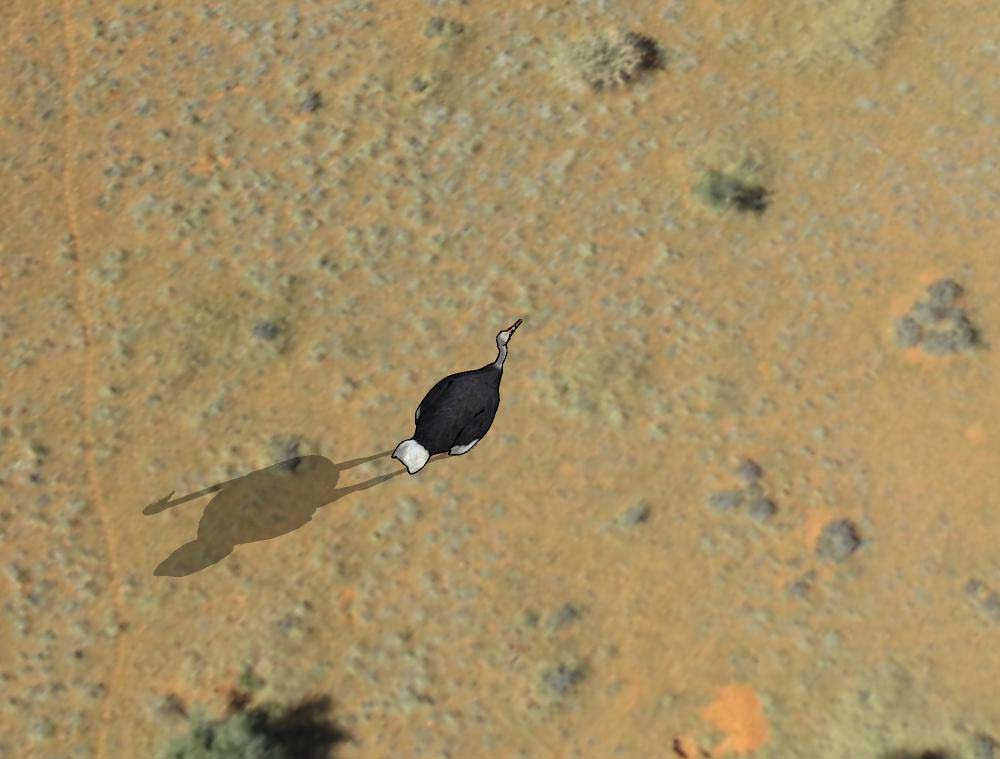springbok: (390, 318, 533, 474)
